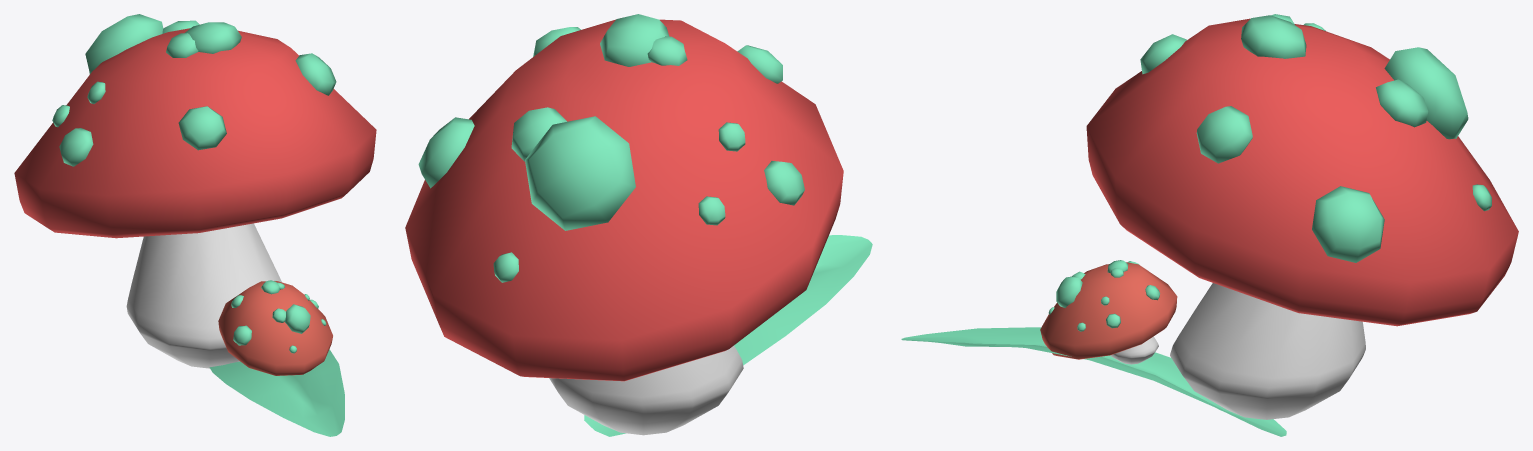
The model's file is SetaGOOD.fbx.
3 views of the same model, side by side, from view 1: azimuth 30°, elevation 25°; view 2: azimuth 150°, elevation 25°; view 3: azimuth 270°, elevation 25° (orthographic). The views are drawn at different scales.
Parts seen in each view (by area): view 1: SetaGrande.001, SetaGrande, SetaPequeña.001, Cesped; view 2: SetaGrande.001, SetaGrande, Cesped; view 3: SetaGrande.001, SetaGrande, SetaPequeña.001, Cesped, SetaPequeña.
Part boxes in pixels (x1,y1,x2,y2): SetaGrande.001: (14,14,376,238); SetaGrande: (126,223,281,368); SetaPequeña.001: (218,280,332,375); Cesped: (209,349,344,436); SetaGrande.001: (405,14,843,381); SetaGrande: (549,345,743,435); Cesped: (584,235,872,436); SetaGrande.001: (1086,14,1518,326); SetaGrande: (1170,283,1365,419); SetaPequeña.001: (1040,260,1177,359); Cesped: (901,327,1286,436); SetaPequeña: (1110,336,1158,364).
Bounding box in the file's own units: 635 × 665 × 931.
